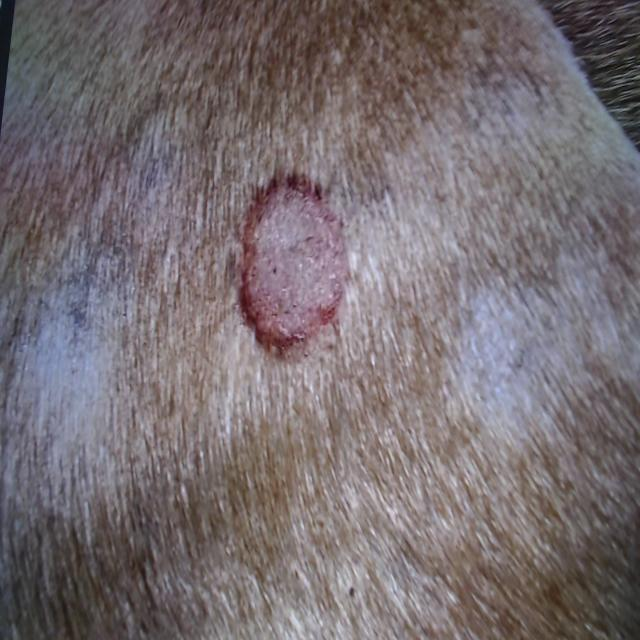ringworm: (231, 153, 358, 370)
